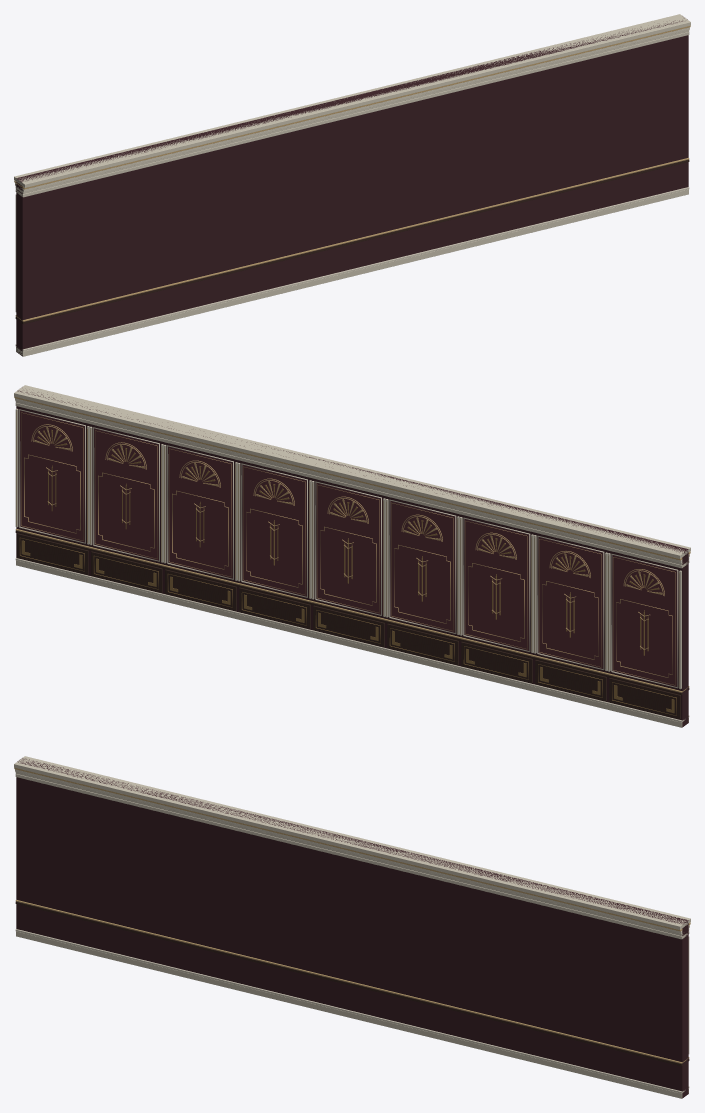
Rendered from hotel-entry-wall-west.glb.
The picture shows the model from 3 angles, top to bottom: view 1: azimuth 30°, elevation 25°; view 2: azimuth 150°, elevation 25°; view 3: azimuth 330°, elevation 25°; orthographic projection.
Parts seen in each view (by area): view 1: Entry wall-west / Entry deep oxblood reveals, Entry wall-west / Entry carved limestone, Entry wall-west / Entry ivory marble, Entry wall-west / Entry champagne brass, Entry wall-west / Entry dark walnut; view 2: Entry wall-west / Entry smoky oxblood lacquer, Entry wall-west / Entry carved limestone, Entry wall-west / Entry dark walnut, Entry wall-west / Entry champagne brass, Entry wall-west / Entry deep oxblood reveals, Entry wall-west / Entry aged bronze, Entry wall-west / Entry ivory marble; view 3: Entry wall-west / Entry deep oxblood reveals, Entry wall-west / Entry carved limestone, Entry wall-west / Entry ivory marble, Entry wall-west / Entry champagne brass, Entry wall-west / Entry dark walnut.
Boxes of the visible parts, x1=… form: Entry wall-west / Entry deep oxblood reveals: x1=16, y1=18, x2=688, y2=356; Entry wall-west / Entry carved limestone: x1=14, y1=14, x2=690, y2=356; Entry wall-west / Entry ivory marble: x1=15, y1=27, x2=689, y2=351; Entry wall-west / Entry champagne brass: x1=14, y1=25, x2=690, y2=321; Entry wall-west / Entry dark walnut: x1=15, y1=159, x2=689, y2=324; Entry wall-west / Entry smoky oxblood lacquer: x1=20, y1=410, x2=677, y2=686; Entry wall-west / Entry carved limestone: x1=14, y1=385, x2=690, y2=727; Entry wall-west / Entry dark walnut: x1=15, y1=530, x2=689, y2=719; Entry wall-west / Entry champagne brass: x1=14, y1=396, x2=690, y2=692; Entry wall-west / Entry deep oxblood reveals: x1=16, y1=390, x2=688, y2=727; Entry wall-west / Entry aged bronze: x1=16, y1=411, x2=679, y2=715; Entry wall-west / Entry ivory marble: x1=15, y1=398, x2=689, y2=722; Entry wall-west / Entry deep oxblood reveals: x1=16, y1=758, x2=688, y2=1098; Entry wall-west / Entry carved limestone: x1=14, y1=756, x2=690, y2=1098; Entry wall-west / Entry ivory marble: x1=15, y1=769, x2=689, y2=1093; Entry wall-west / Entry champagne brass: x1=14, y1=767, x2=690, y2=1063; Entry wall-west / Entry dark walnut: x1=15, y1=901, x2=689, y2=1066.
Size of the model in its own units: 27.28 by 6.8 by 0.78.
7 materials, 2 textured.
